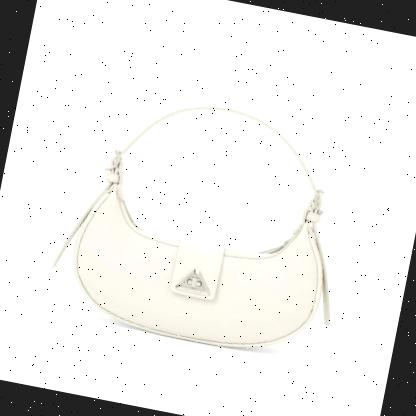bag: (37, 74, 374, 370)
